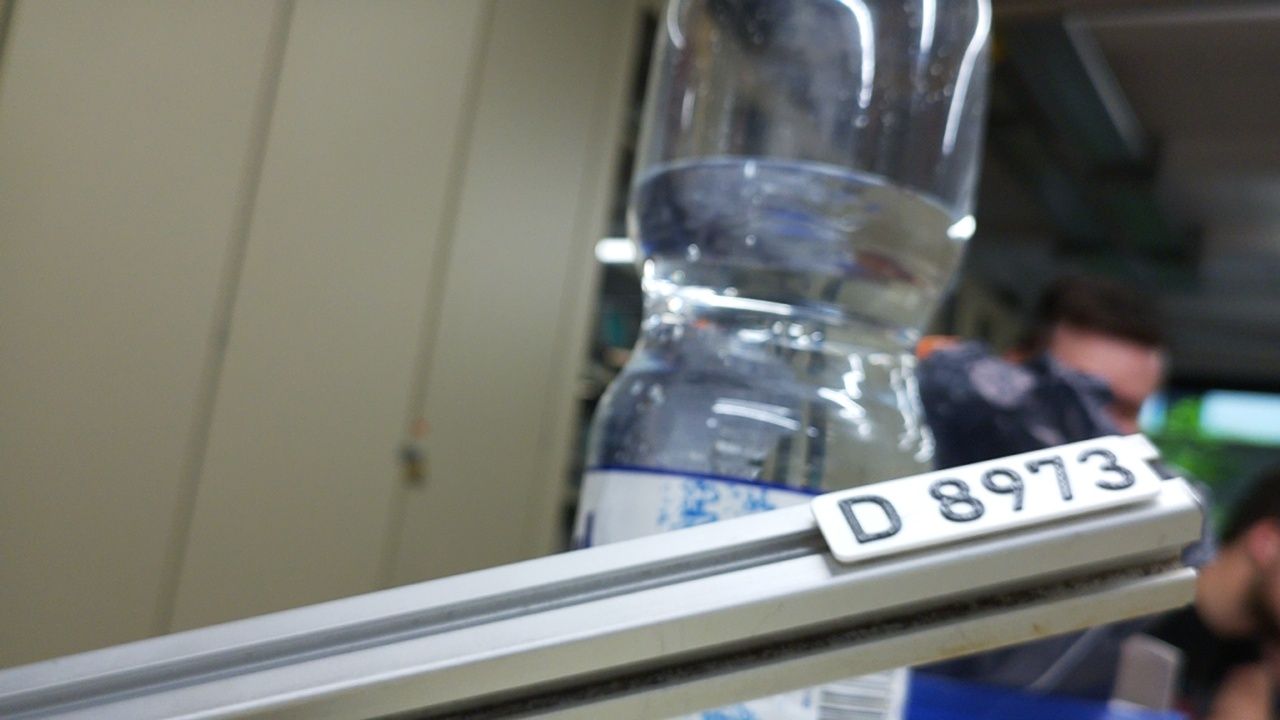license_plate: (808, 428, 1164, 570)
